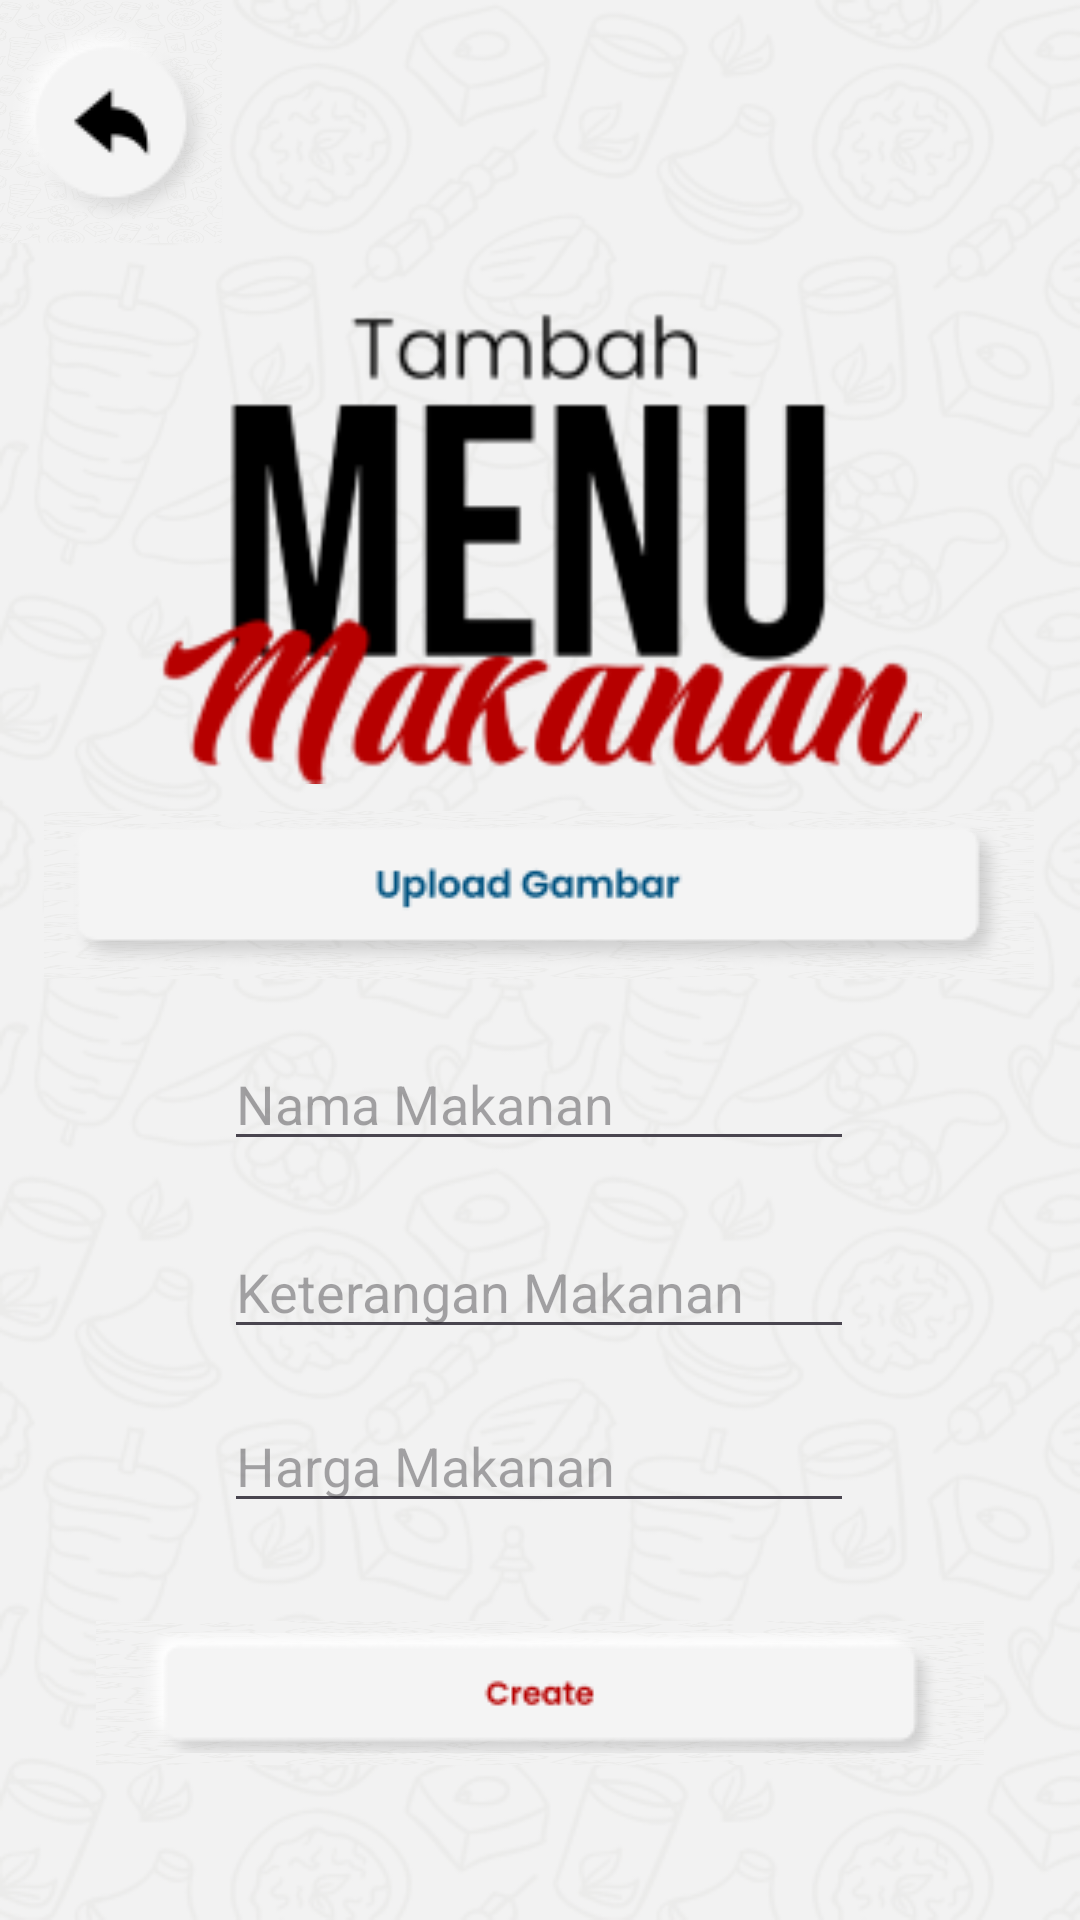

Where to tap for icons on this 1080px x 1920px app screen, as point (x, y):
buttonkembali: point (131, 145)
